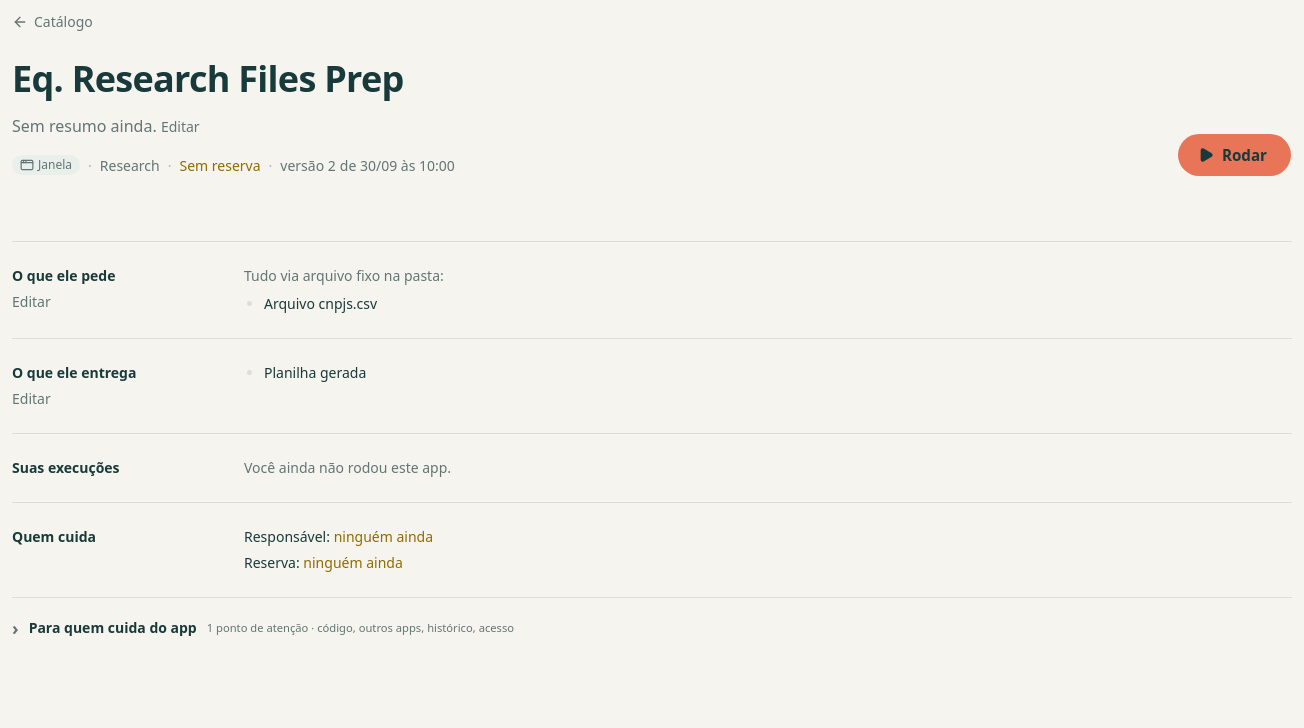
Scenario: an editor without access control cannot change who cares for the app nor its area
Expected: the heading "Eq. Research Files Prep" is shown, [12, 54, 404, 103]
Click the button with aria-label "Editar Sobre" at (180, 127), box [161, 117, 200, 137]
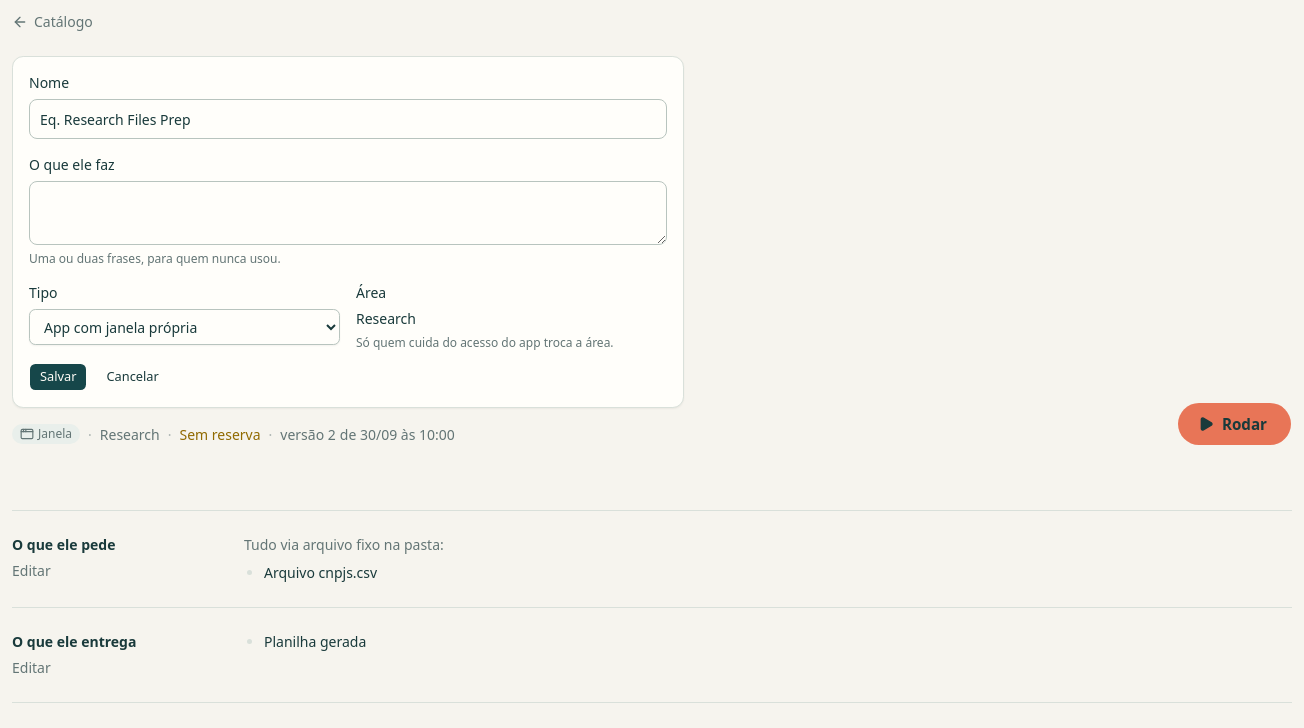
Result: the text "Só quem cuida do acesso do app troca a área." is shown at [356, 334, 614, 351]
